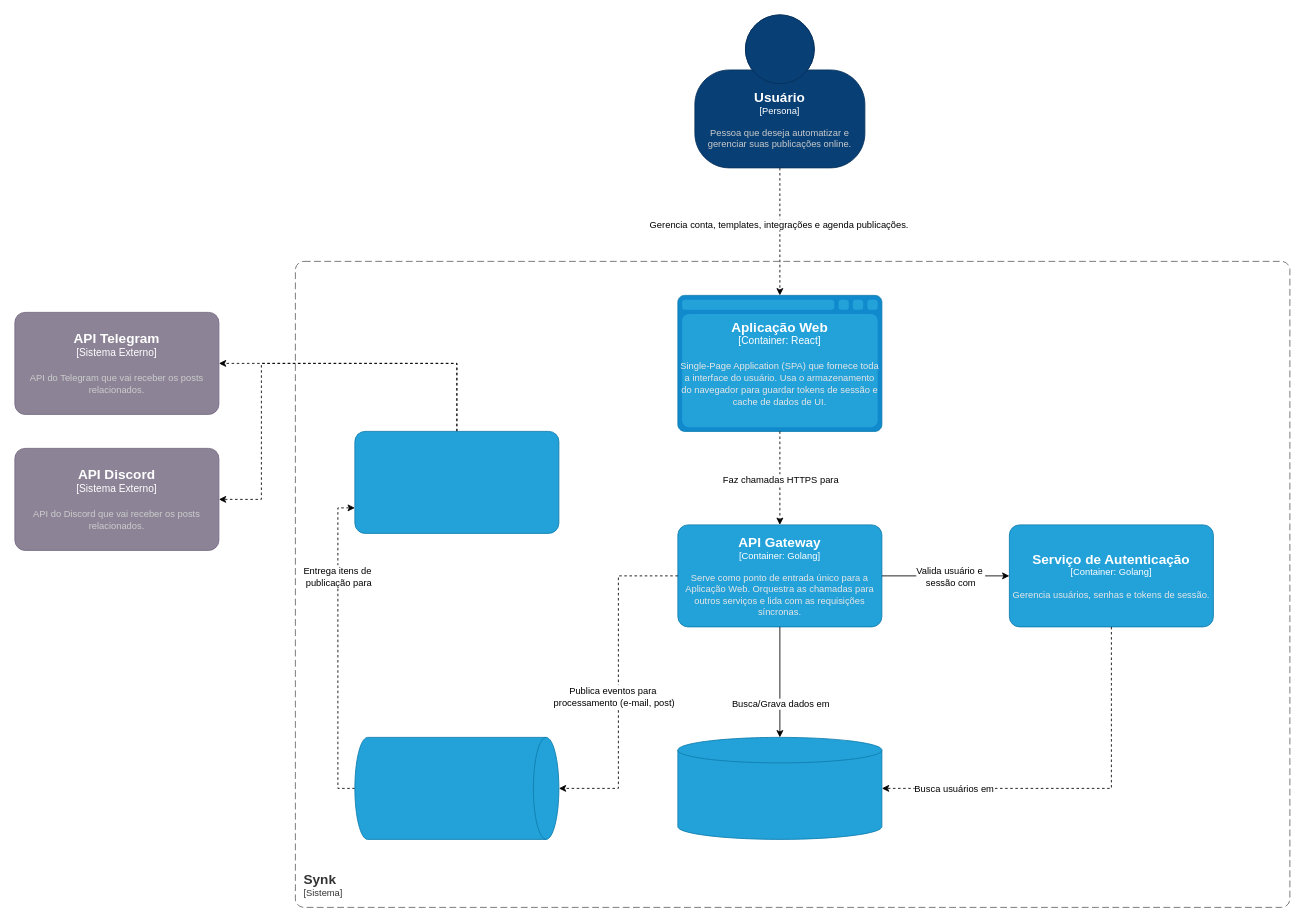
Image size: 1305x922. Some labels were removed from this diagram. The centre of each missing label's shape, as x and y in pixels:
"Banco de Dados [Container: MySQL] Persiste todos os dados da aplicação." goes at pixel 779 788.
"Gerenciador de Filas [Container: Golang] Gerencia os itens da fila." goes at pixel 456 788.
"Serviço de Publicação [Container: Golang] Processa a fila de publicações." goes at pixel 456 482.
